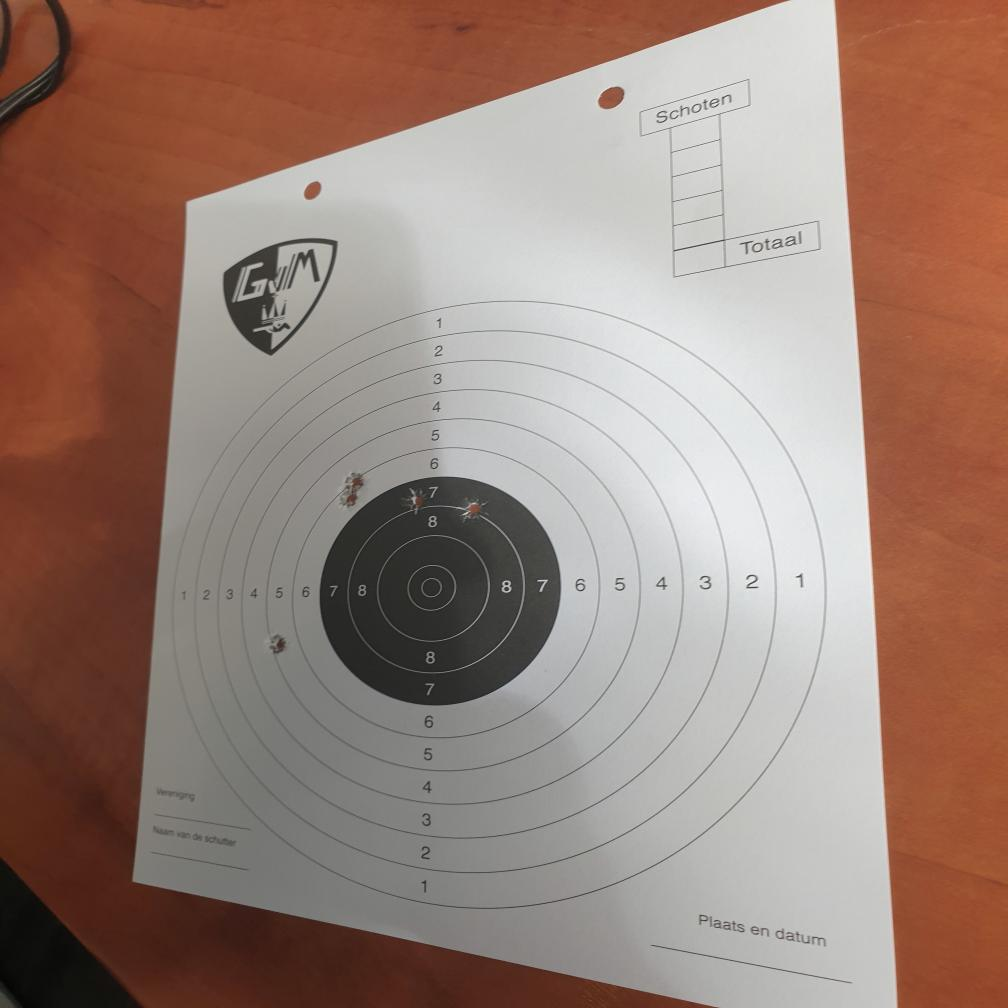5: (261, 634, 291, 657)
6: (344, 470, 368, 494), (338, 492, 356, 507)
8: (454, 496, 492, 523), (402, 488, 428, 514)
Target: (169, 298, 825, 910)
black_contour: (319, 476, 562, 704)
